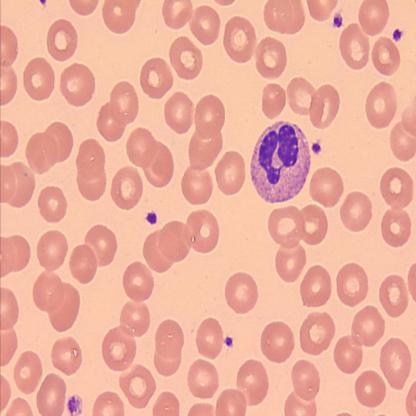Segmented neutrophil: (248, 116, 312, 205)
